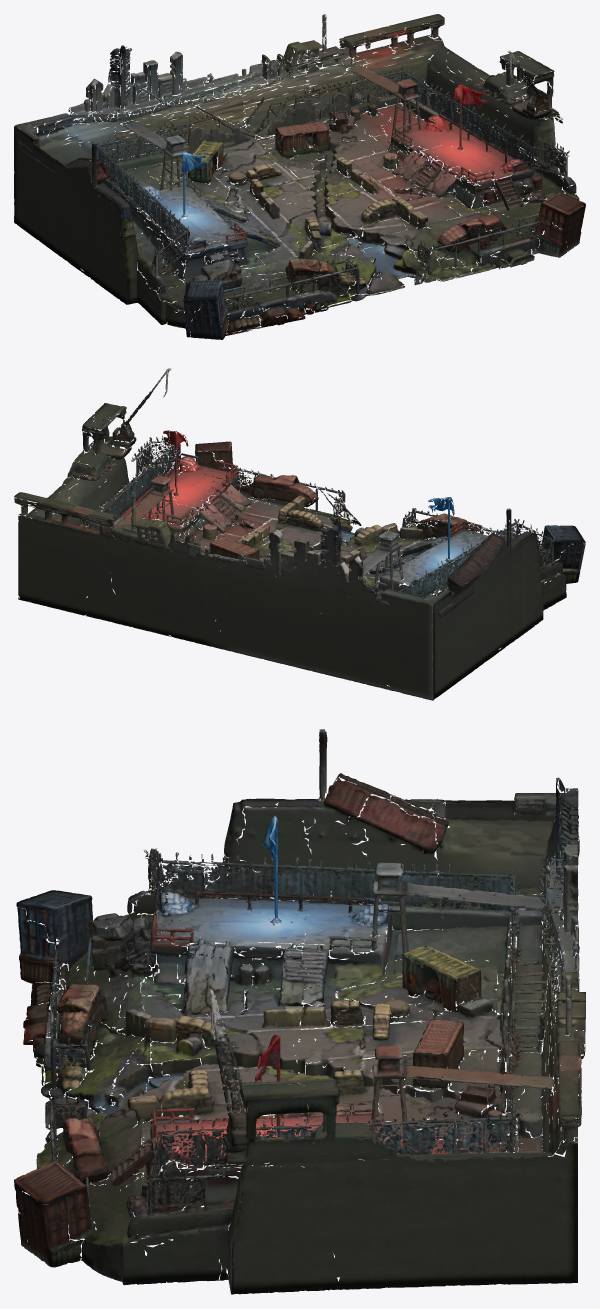
Rendered from post_apocalyptic_battlefield.glb.
3 renders of one model, top to bottom at view 1: azimuth 30°, elevation 25°; view 2: azimuth 150°, elevation 25°; view 3: azimuth 270°, elevation 25°, orthographic. The views are drawn at different scales.
Parts seen in each view (by area): view 1: PostApocalypticBattlefield; view 2: PostApocalypticBattlefield; view 3: PostApocalypticBattlefield.
Part boxes in pixels (x1=…): PostApocalypticBattlefield: x1=14, y1=14, x2=585, y2=339; PostApocalypticBattlefield: x1=14, y1=368, x2=585, y2=700; PostApocalypticBattlefield: x1=14, y1=729, x2=585, y2=1294.
Bounding box in the file's own units: 62.69 × 22.33 × 43.86.
Materials: 1 (1 with a texture image).
